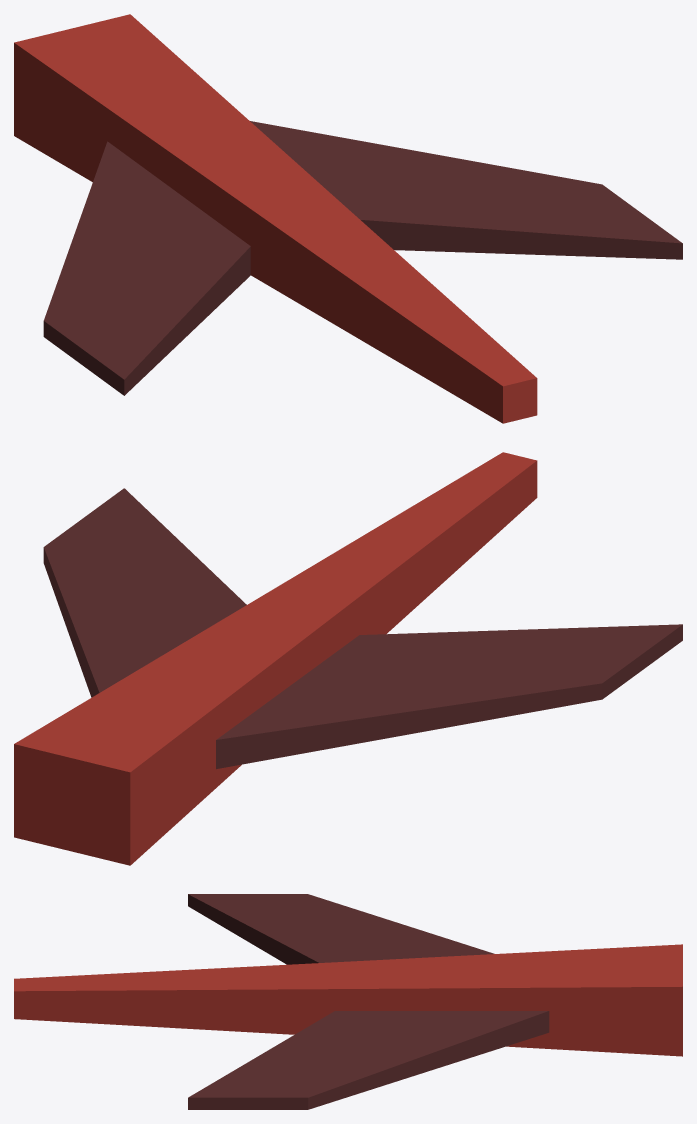
File: fighter.obj
The picture shows the model from 3 angles, top to bottom: view 1: azimuth 30°, elevation 25°; view 2: azimuth 150°, elevation 25°; view 3: azimuth 270°, elevation 25°; orthographic projection. The views are drawn at different scales.
Bounding box in the file's own units: 0.72 × 0.115 × 1.
